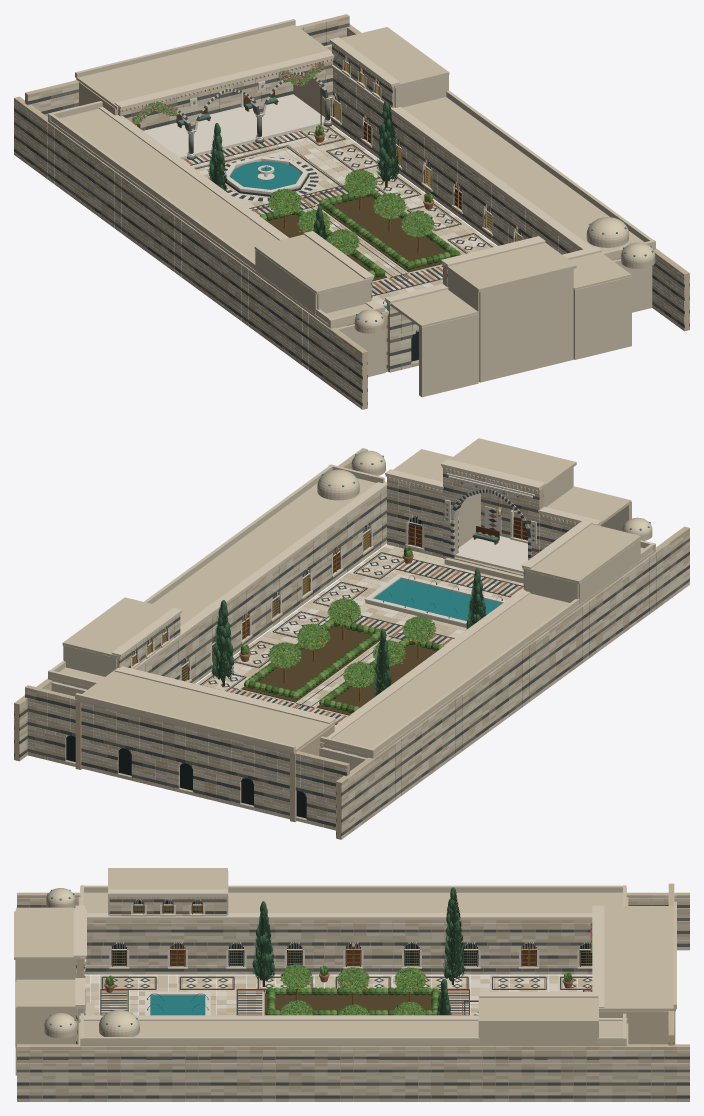
File: palace.glb
The picture shows the model from 3 angles, top to bottom: view 1: azimuth 30°, elevation 25°; view 2: azimuth 150°, elevation 25°; view 3: azimuth 270°, elevation 25°; orthographic projection. The views are drawn at different scales.
Parts seen in each view (by area): view 1: Outer residential wall, North wing roof and colonnade platform, Iwan vaulted room and raised dais, Flat earthen residential roofs, Flat earthen residential roofs.001, East ablaq courtyard facade, Limestone courtyard paving, South reception chamber shell, Sunken garden beds and clipped hedges, Upper room volume and roof, South reception chamber shell.001, Upper room volume and roof.001 (+26 smaller); view 2: Outer residential wall, North reception rooms rear wall, Flat earthen residential roofs, North wing roof and colonnade platform, East ablaq courtyard facade, Flat earthen residential roofs.001, Limestone courtyard paving, Sunken garden beds and clipped hedges, Iwan vaulted room and raised dais, Upper room volume and roof, Upper room volume and roof.001, Cut marble carpets and geometric borders (+26 smaller); view 3: Outer residential wall.001, West ablaq courtyard facade, Flat earthen residential roofs, Flat earthen residential roofs.001, North wing roof and colonnade platform, Limestone courtyard paving, Iwan vaulted room and raised dais, Upper room volume and roof.001, Sunken garden beds and clipped hedges, Cut marble carpets and geometric borders, Residential facade cornice, Upper room volume and roof (+30 smaller).
Boxes of the visible parts, <box> form: Outer residential wall: <box>14,96,367,409</box>; North wing roof and colonnade platform: <box>75,19,331,159</box>; Iwan vaulted room and raised dais: <box>444,242,576,382</box>; Flat earthen residential roofs: <box>48,101,384,328</box>; Flat earthen residential roofs.001: <box>325,44,655,260</box>; East ablaq courtyard facade: <box>330,70,579,254</box>; Limestone courtyard paving: <box>183,125,496,372</box>; South reception chamber shell: <box>390,289,478,397</box>; Sunken garden beds and clipped hedges: <box>260,190,460,282</box>; Upper room volume and roof: <box>254,234,371,314</box>; South reception chamber shell.001: <box>569,252,631,359</box>; Upper room volume and roof.001: <box>340,27,449,107</box>; Outer residential wall: <box>336,526,689,839</box>; North reception rooms rear wall: <box>25,685,349,830</box>; Flat earthen residential roofs: <box>320,540,655,758</box>; North wing roof and colonnade platform: <box>75,669,334,822</box>; East ablaq courtyard facade: <box>138,487,386,683</box>; Flat earthen residential roofs.001: <box>48,464,384,689</box>; Limestone courtyard paving: <box>196,544,523,725</box>; Sunken garden beds and clipped hedges: <box>239,619,443,716</box>; Iwan vaulted room and raised dais: <box>444,438,576,583</box>; Upper room volume and roof: <box>524,524,641,604</box>; Upper room volume and roof.001: <box>62,597,171,676</box>; Cut marble carpets and geometric borders: <box>200,552,523,724</box>; Outer residential wall.001: <box>17,1044,689,1101</box>; West ablaq courtyard facade: <box>85,920,592,974</box>; Flat earthen residential roofs: <box>80,885,626,912</box>; Flat earthen residential roofs.001: <box>80,1013,626,1046</box>; North wing roof and colonnade platform: <box>599,901,676,1044</box>; Limestone courtyard paving: <box>85,975,592,1015</box>; Iwan vaulted room and raised dais: <box>14,911,94,1047</box>; Upper room volume and roof.001: <box>478,995,598,1043</box>; Sunken garden beds and clipped hedges: <box>262,987,439,1015</box>; Cut marble carpets and geometric borders: <box>100,976,592,1015</box>; Residential facade cornice: <box>87,913,592,921</box>; Upper room volume and roof: <box>108,868,228,915</box>.
Size of the model in its own units: 37.45 by 11.28 by 69.3.
